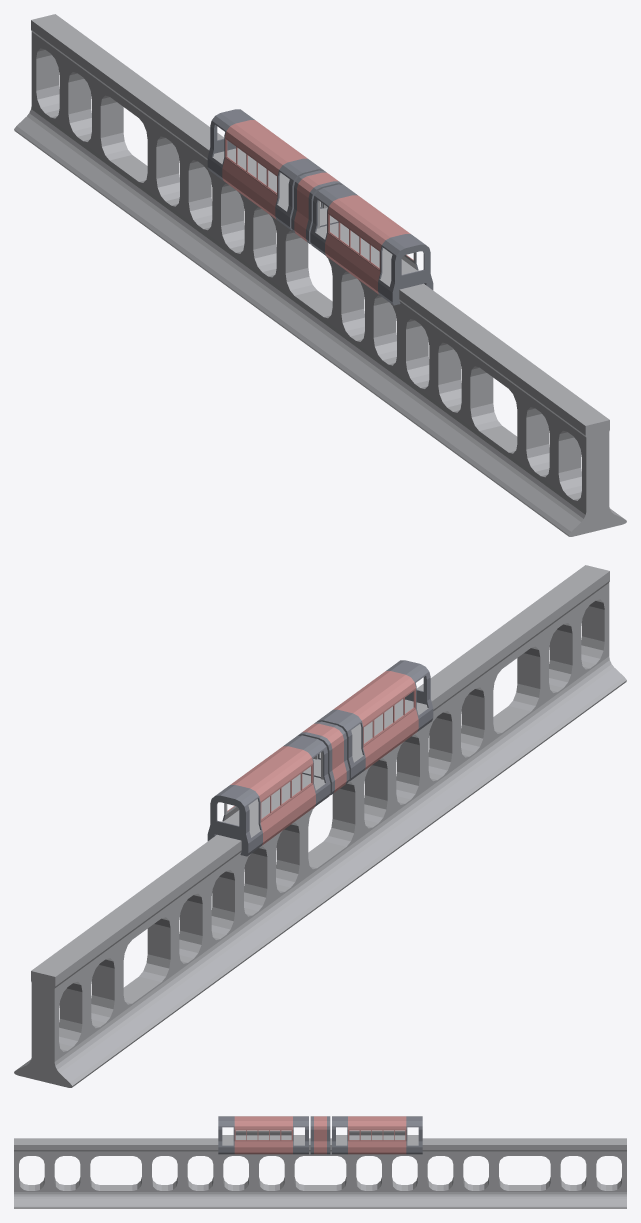
The model's file is Monorail.dae.
3 renders of one model, top to bottom at view 1: azimuth 30°, elevation 25°; view 2: azimuth 150°, elevation 25°; view 3: azimuth 270°, elevation 25°, orthographic. The views are drawn at different scales.
Parts seen in each view (by area): view 1: Mesh5_Group_3_1_Group7_Group4_Group3_Group2_Group1_Model; view 2: Mesh5_Group_3_1_Group7_Group4_Group3_Group2_Group1_Model; view 3: Mesh5_Group_3_1_Group7_Group4_Group3_Group2_Group1_Model.
Boxes of the visible parts, x1,y1,x2,y2 form: Mesh5_Group_3_1_Group7_Group4_Group3_Group2_Group1_Model: (14, 14, 626, 536); Mesh5_Group_3_1_Group7_Group4_Group3_Group2_Group1_Model: (14, 565, 626, 1087); Mesh5_Group_3_1_Group7_Group4_Group3_Group2_Group1_Model: (14, 1116, 626, 1208).
Size of the model in its own units: 3.5 by 57.61 by 8.53.
